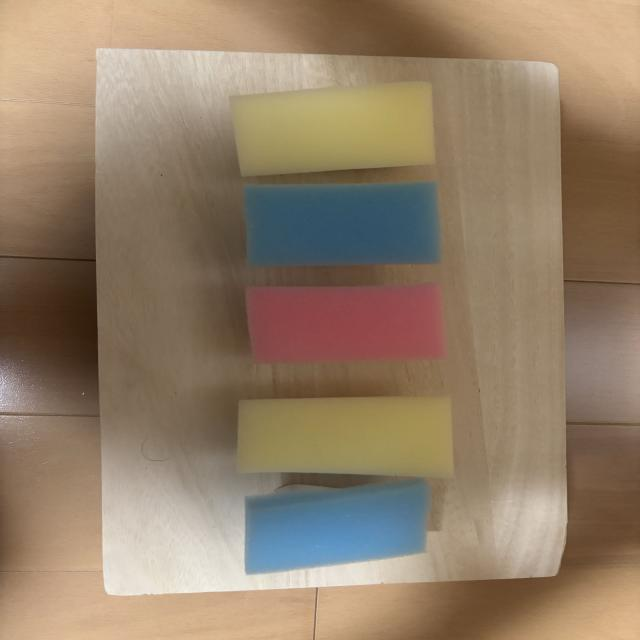ika: (245, 479, 430, 574), (243, 181, 441, 267)
tai: (246, 282, 446, 364)
tamago: (229, 81, 435, 176), (237, 396, 453, 478)
